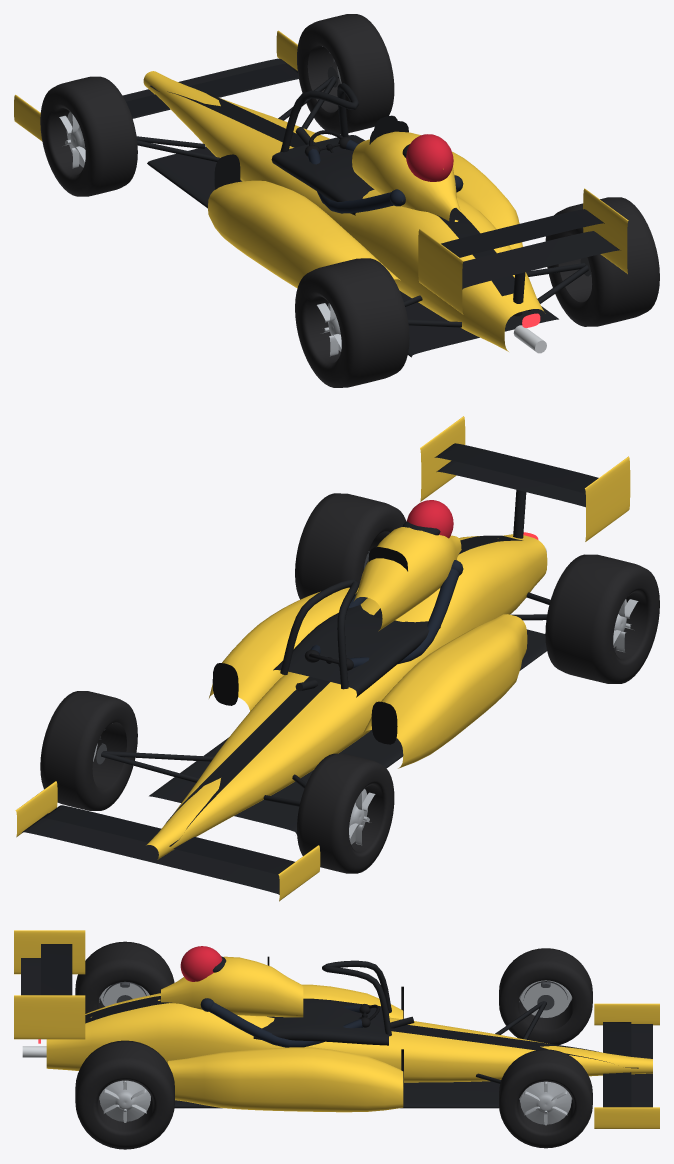
Rendered from race-car-yellow.0d68cb9d.glb.
The picture shows the model from 3 angles, top to bottom: view 1: azimuth 30°, elevation 25°; view 2: azimuth 150°, elevation 25°; view 3: azimuth 270°, elevation 25°; orthographic projection. The views are drawn at different scales.
Parts seen in each view (by area): view 1: chassis, wheel_rl, wheel_fl, wheel_fr, wheel_rr; view 2: chassis, wheel_rl, wheel_fl, wheel_fr, wheel_rr; view 3: chassis, wheel_rr, wheel_fr, wheel_fl, wheel_rl.
Boxes of the visible parts, left/top/right/bottom form: chassis: left=14, top=30, right=628, bottom=357; wheel_rl: left=295, top=258, right=409, bottom=387; wheel_fl: left=40, top=76, right=137, bottom=196; wheel_fr: left=297, top=14, right=394, bottom=134; wheel_rr: left=545, top=197, right=659, bottom=326; chassis: left=15, top=416, right=630, bottom=901; wheel_rl: left=545, top=554, right=659, bottom=683; wheel_fl: left=297, top=753, right=394, bottom=873; wheel_fr: left=40, top=691, right=137, bottom=810; wheel_rr: left=295, top=493, right=406, bottom=599; chassis: left=14, top=930, right=659, bottom=1128; wheel_rr: left=75, top=1040, right=174, bottom=1149; wheel_fr: left=499, top=1049, right=592, bottom=1148; wheel_fl: left=499, top=948, right=592, bottom=1044; wheel_rl: left=75, top=941, right=174, bottom=1013.
Bounding box in the file's own units: 2.04 × 1.11 × 4.53.
